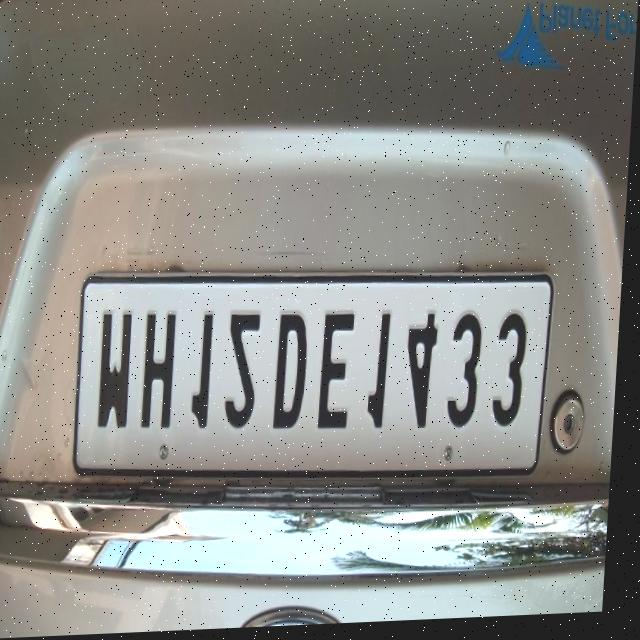plate: (74, 260, 560, 498)
